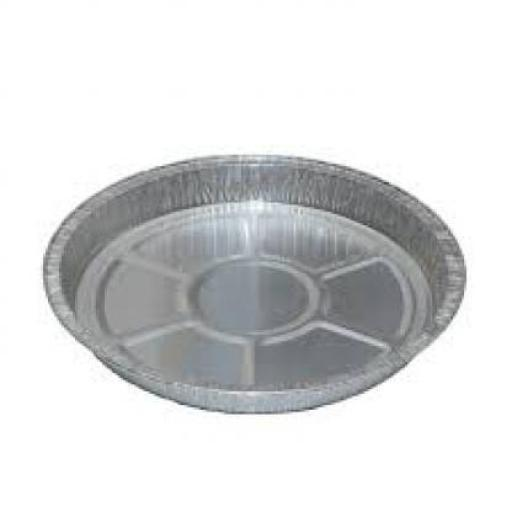metal: (41, 152, 464, 410)
